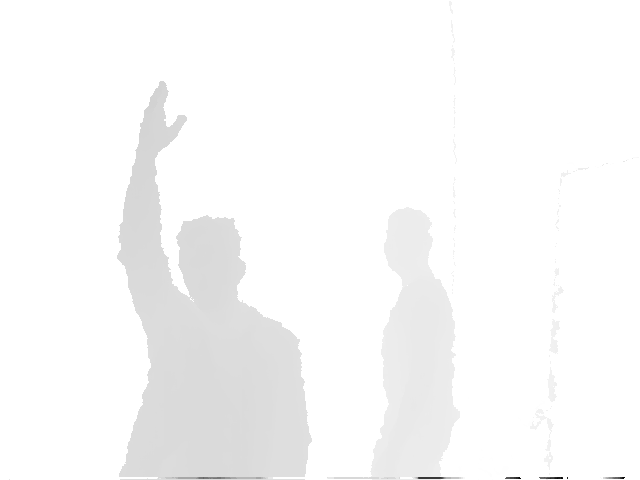hand: (140, 80, 187, 156)
head: (176, 216, 247, 306), (384, 206, 433, 284)
person: (116, 80, 313, 480), (368, 207, 462, 479)
